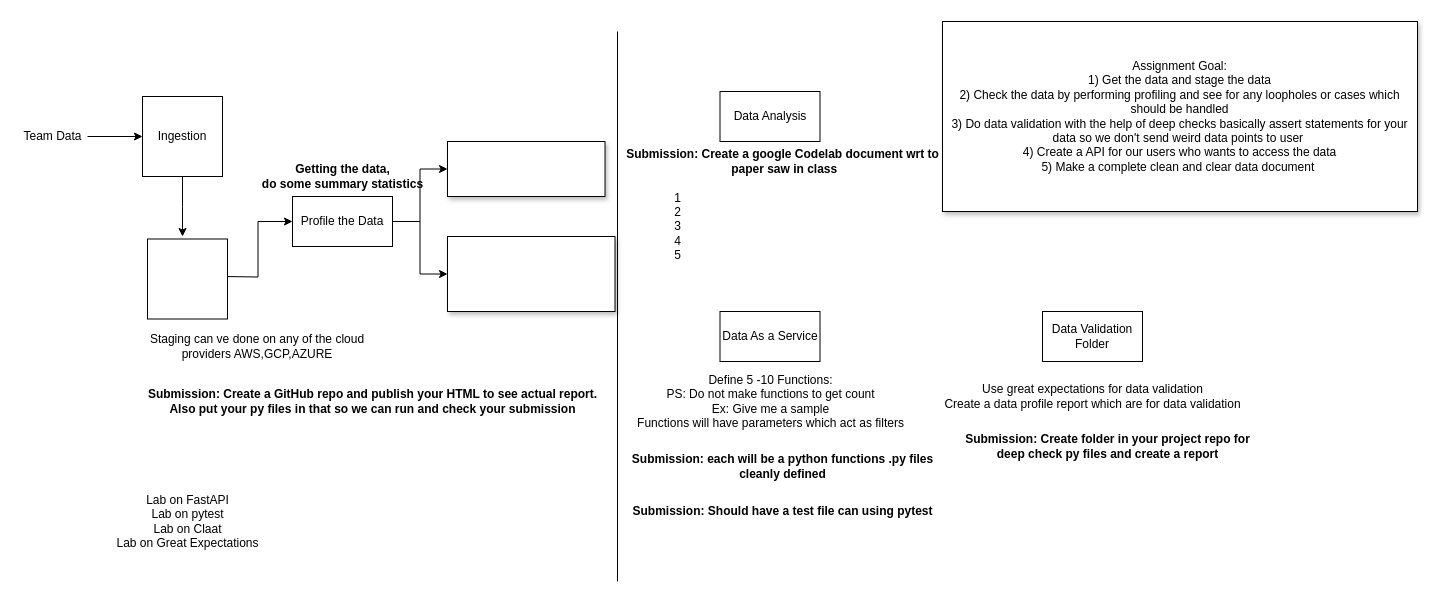
This 1441x600 diagram has some shape labels left out. Each missing label, with the centre of its shape:
Model Card Tool Kit: (x=526, y=170)
Pandas Profiling Note: This can be done on metadata provided for your datasets: (x=531, y=275)
Staged: (x=187, y=278)
